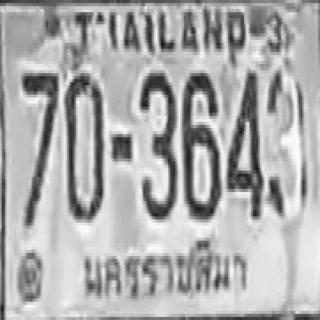N00: (64, 70, 104, 219)
N03: (266, 67, 308, 213), (139, 70, 176, 216)
N04: (226, 67, 262, 216)
N06: (182, 70, 219, 216)
N07: (20, 70, 58, 226), (21, 70, 57, 183)
P30: (74, 229, 253, 315)
